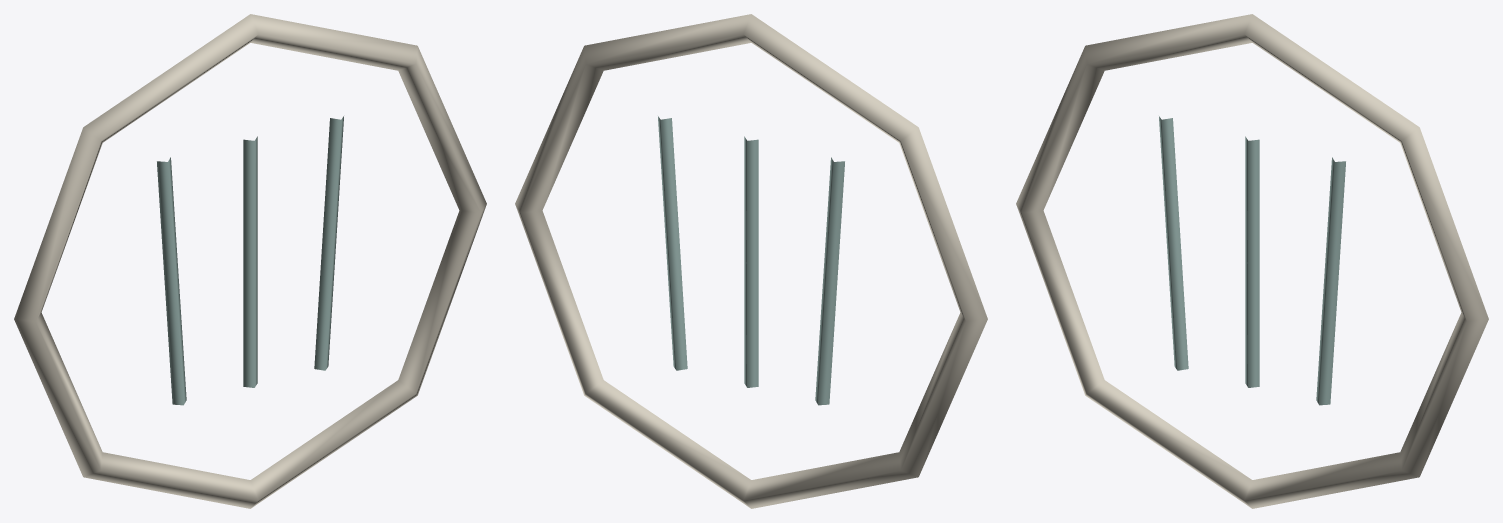
File: beam.glb
3 renders of one model, left to right at view 1: azimuth 30°, elevation 25°; view 2: azimuth 150°, elevation 25°; view 3: azimuth 330°, elevation 25°, orthographic.
Visible parts, largest first — view 1: beam; view 2: beam; view 3: beam.
Part boxes in pixels (<box>): beam: <box>14,14,486,508</box>; beam: <box>515,14,987,508</box>; beam: <box>1016,14,1488,508</box>.
Size of the model in its own units: 0.5406 by 0.5406 by 0.0315.
